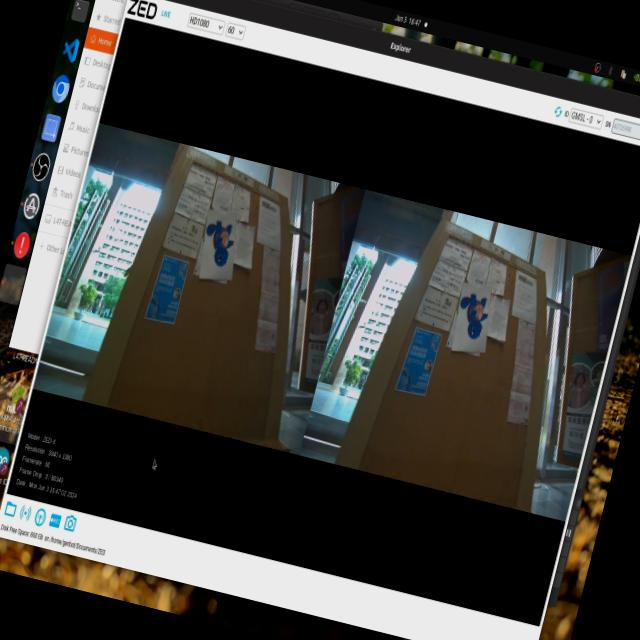blue: (194, 204, 249, 284), (450, 286, 500, 342)
